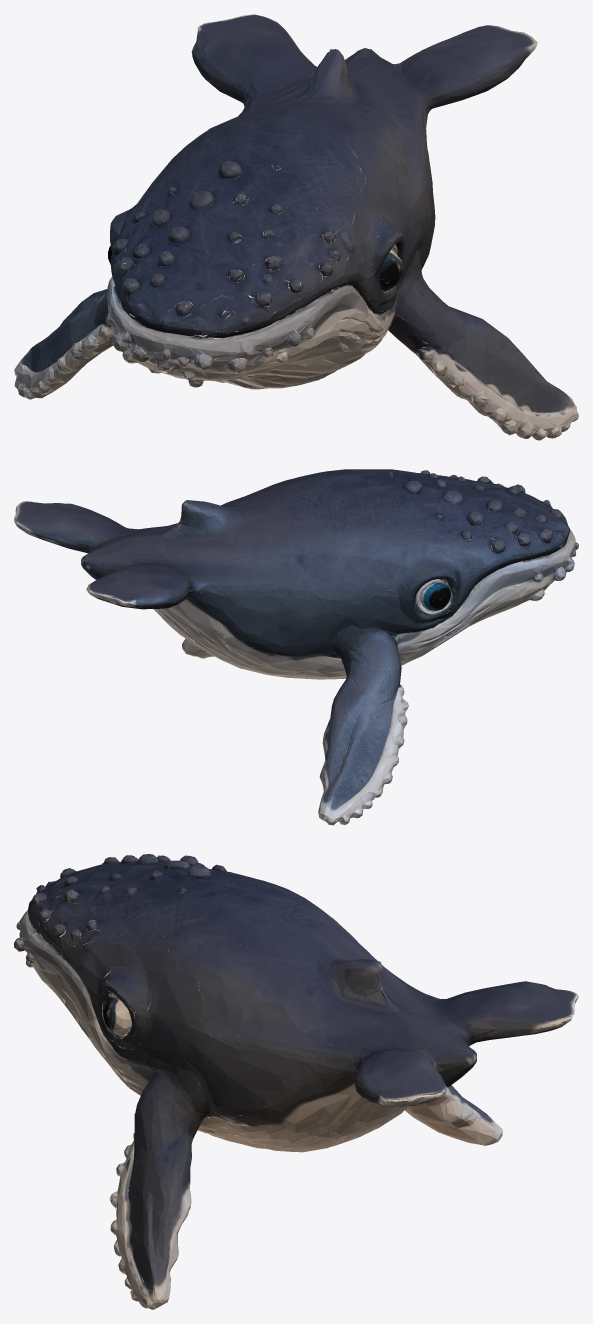
File: vallena.fbx
3 views of the same model, one above another, from view 1: azimuth 30°, elevation 25°; view 2: azimuth 150°, elevation 25°; view 3: azimuth 270°, elevation 25° (orthographic). The views are drawn at different scales.
Parts seen in each view (by area): view 1: vallena; view 2: vallena; view 3: vallena.
Part boxes in pixels (<box>): vallena: <box>14,14,578,440</box>; vallena: <box>14,469,578,825</box>; vallena: <box>14,854,578,1309</box>.
Size of the model in its own units: 1.99 by 1.08 by 1.84.
1 material, 1 textured.
